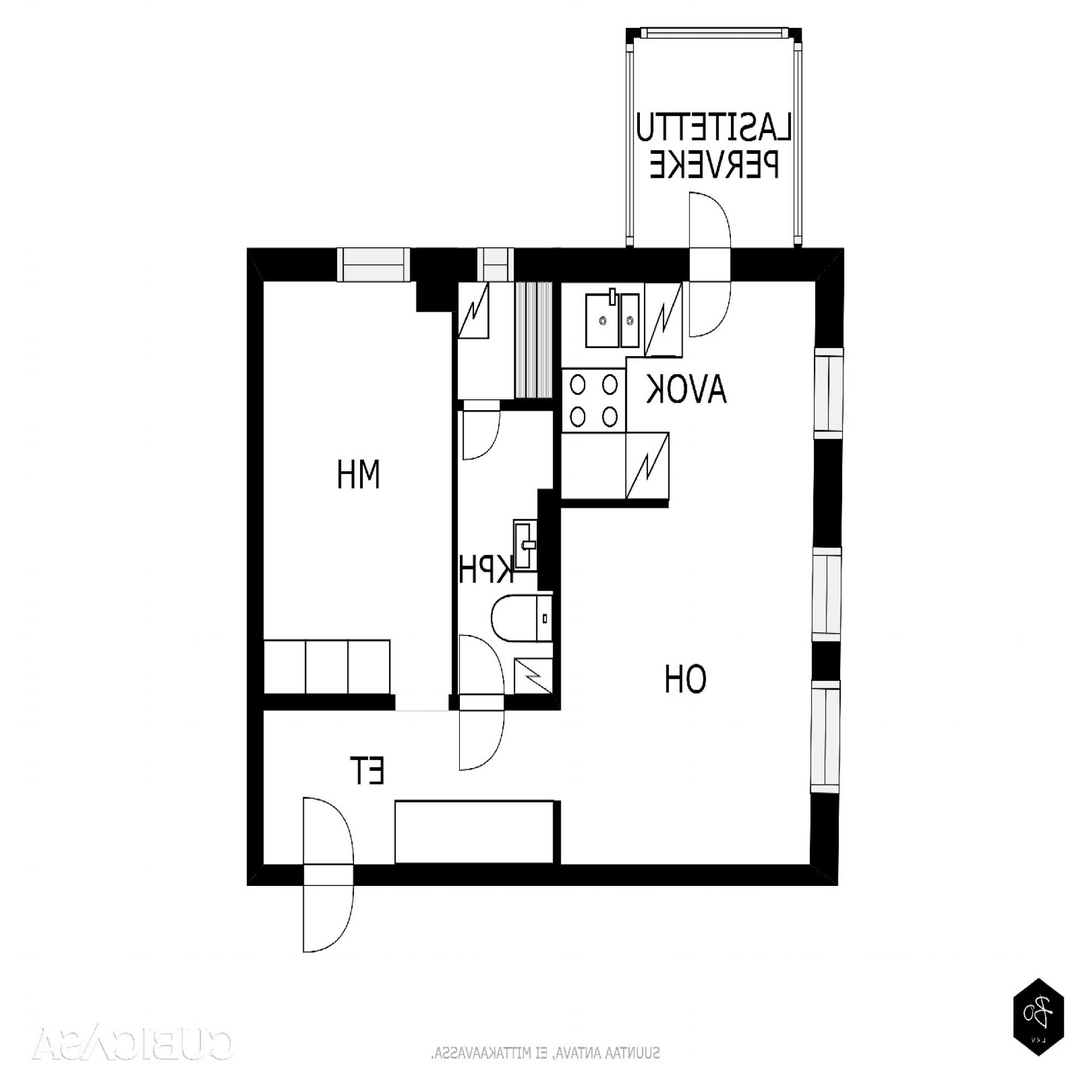wall: (246, 248, 837, 282), (810, 248, 837, 885), (246, 864, 837, 885), (246, 248, 263, 710), (246, 693, 560, 710), (552, 248, 560, 710), (246, 710, 263, 885), (451, 248, 456, 710), (416, 248, 451, 311), (626, 27, 633, 282), (626, 27, 800, 37), (537, 488, 552, 591), (794, 27, 800, 282), (451, 399, 560, 410), (552, 498, 669, 507), (552, 800, 560, 885)
